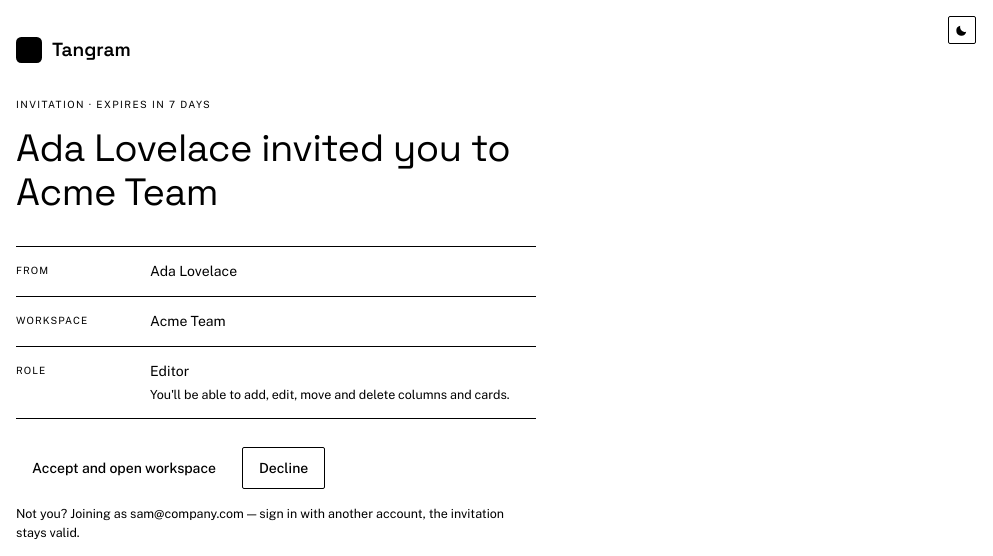
InviteView — signed in, opened the link › accepts with a token, and confirms which account joined
The image size is (993, 556).
Click the button "Accept and open workspace": (124, 468) [16, 448, 232, 488]
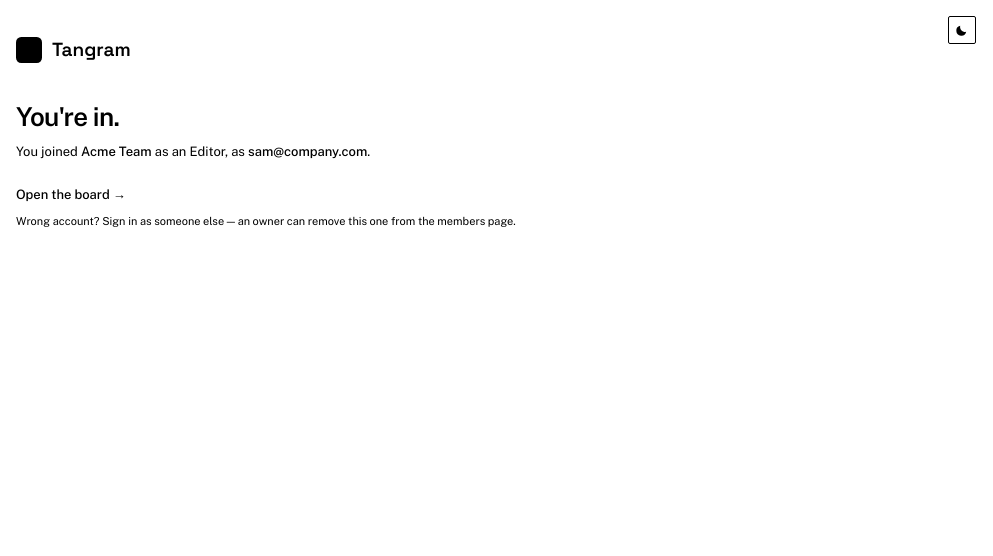
Check: the text "sam@company.com" is shown, box [248, 144, 367, 158]
Check: the heading "You're in." is shown, box [16, 100, 119, 132]
Check: the text "You joined Acme Team as an Editor, as sam@company.com." is shown, box [16, 144, 370, 158]
